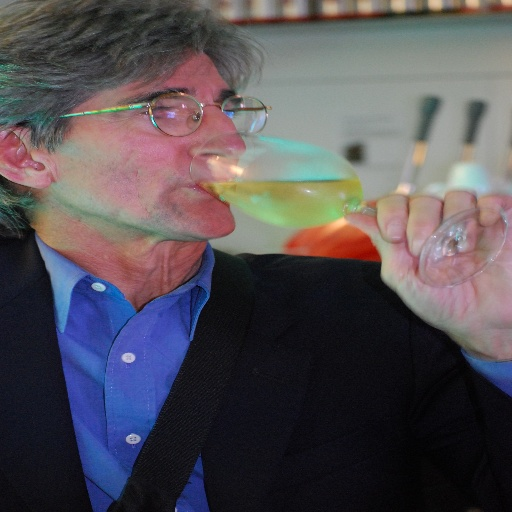hand: (365, 171, 512, 309)
